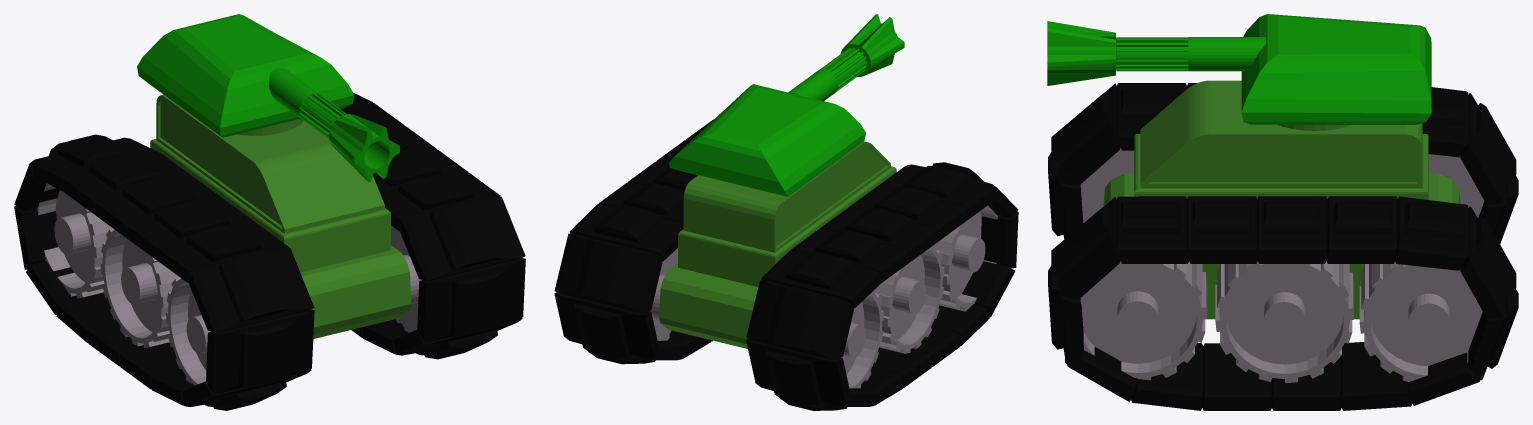
The model's file is new_tank.fbx.
The picture shows the model from 3 angles, left to right: view 1: azimuth 30°, elevation 25°; view 2: azimuth 150°, elevation 25°; view 3: azimuth 270°, elevation 25°; orthographic projection. The views are drawn at different scales.
Visible parts, largest first — view 1: orugas, tank, turret, R_wheel_2, R_wheel_3, R_wheel_1, L_wheel_1; view 2: orugas, tank, turret, R_wheel_2, R_wheel_1, R_wheel_3, L_wheel_3; view 3: orugas, turret, tank, L_wheel_2, L_wheel_1, L_wheel_3, R_wheel_1, R_wheel_3.
Boxes of the visible parts, <box> form: orugas: <box>14,93,525,410</box>; tank: <box>150,94,411,338</box>; turret: <box>137,14,400,182</box>; R_wheel_2: <box>100,228,179,348</box>; R_wheel_3: <box>36,183,112,298</box>; R_wheel_1: <box>166,277,210,385</box>; L_wheel_1: <box>391,226,421,332</box>; orugas: <box>554,119,1018,410</box>; tank: <box>659,141,896,348</box>; turret: <box>668,14,904,196</box>; R_wheel_2: <box>874,244,944,353</box>; R_wheel_1: <box>934,205,997,311</box>; R_wheel_3: <box>841,289,883,388</box>; L_wheel_3: <box>649,248,677,340</box>; orugas: <box>1048,83,1518,410</box>; turret: <box>1047,14,1431,124</box>; tank: <box>1103,80,1460,319</box>; L_wheel_2: <box>1215,261,1353,383</box>; L_wheel_1: <box>1080,261,1207,380</box>; L_wheel_3: <box>1359,261,1482,382</box>; R_wheel_1: <box>1080,148,1134,222</box>; R_wheel_3: <box>1428,154,1484,217</box>.
Size of the model in its own units: 182 by 160 by 217.
